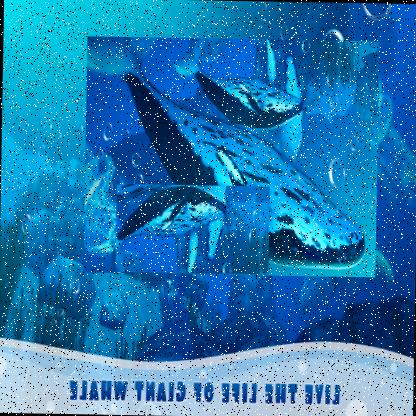blue_whale: (82, 36, 379, 278), (113, 183, 270, 275)
